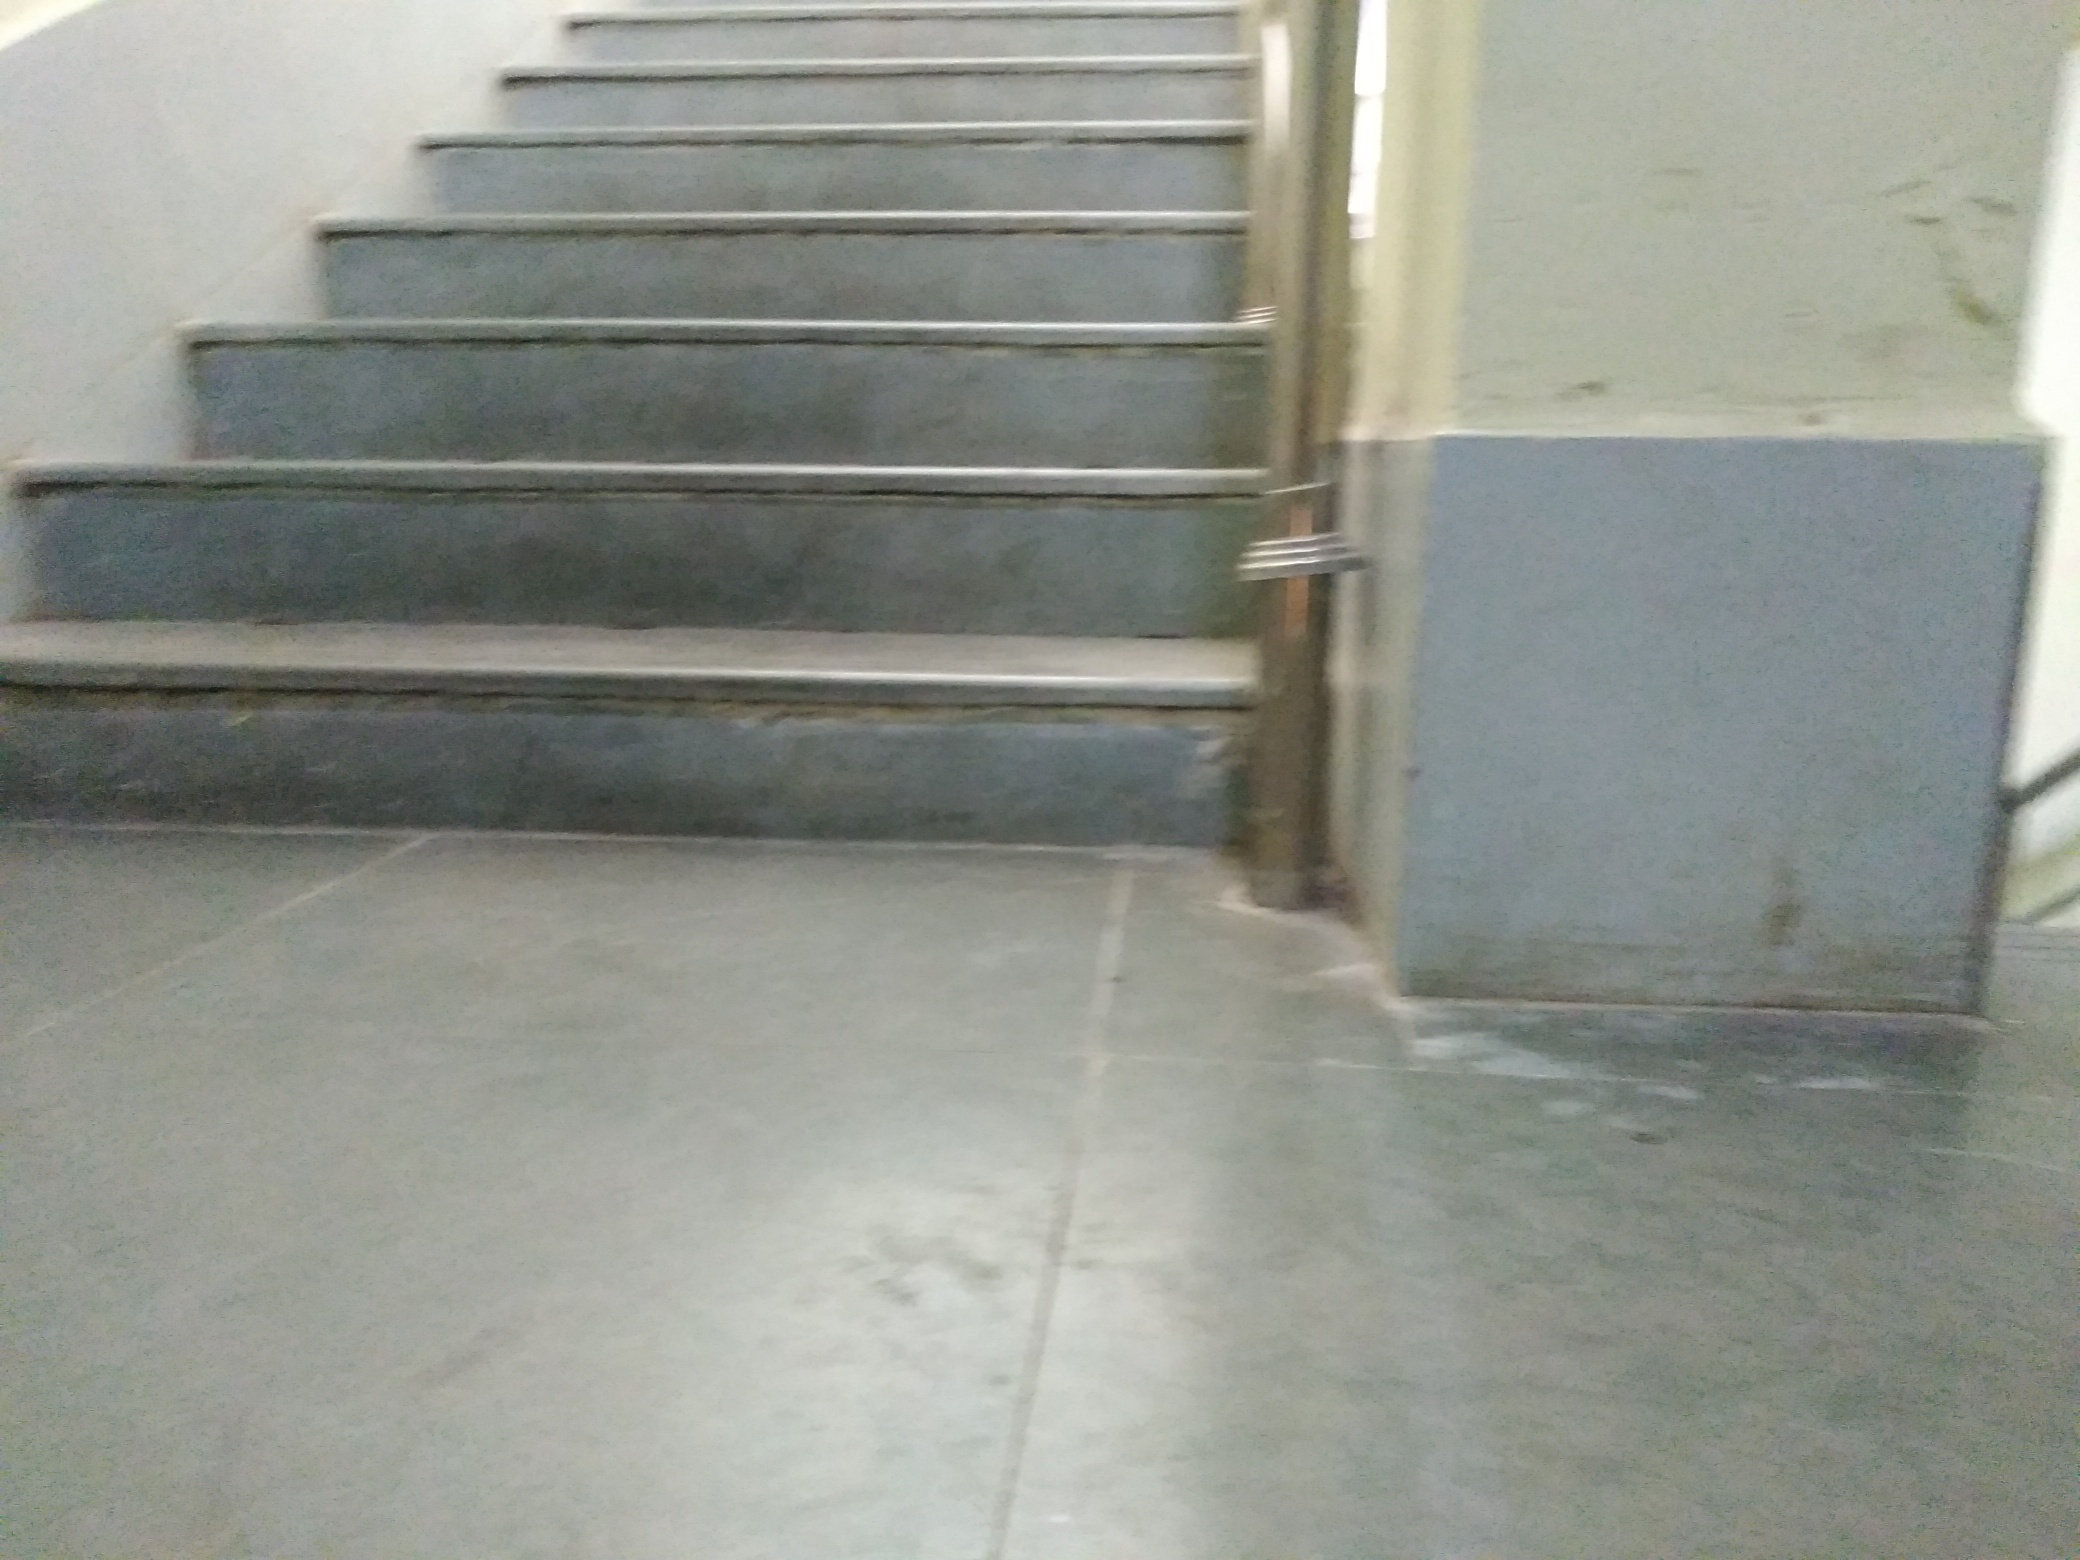stairs_up: (3, 21, 1255, 823)
